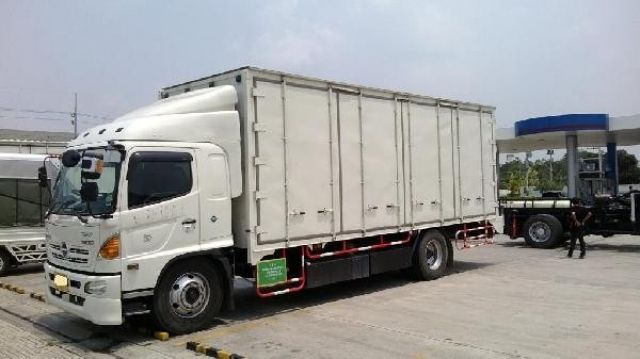truck: (45, 67, 502, 330)
